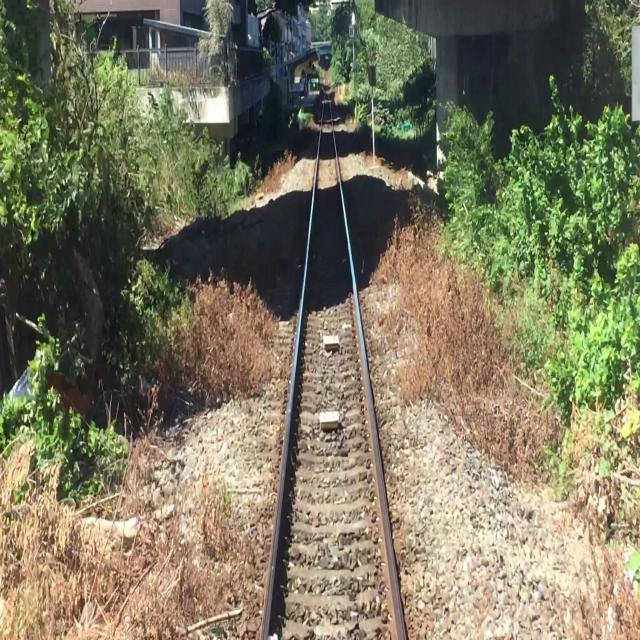rail-track: (281, 94, 389, 639)
